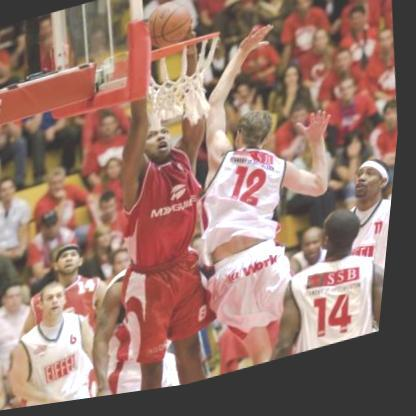basketball: (144, 0, 198, 56)
rim: (148, 35, 223, 67)
